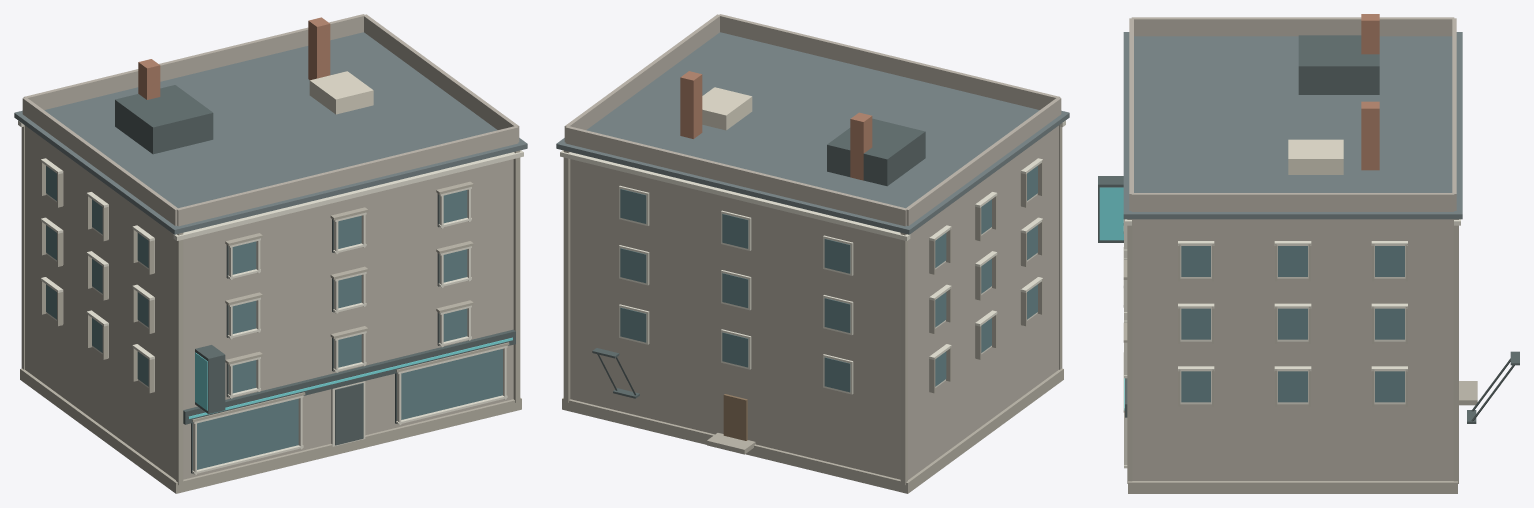
The picture shows the model from 3 angles, left to right: view 1: azimuth 30°, elevation 25°; view 2: azimuth 150°, elevation 25°; view 3: azimuth 270°, elevation 25°; orthographic projection. The views are drawn at different scales.
Bounding box in the file's own units: 18.7 × 16.44 × 18.3.
